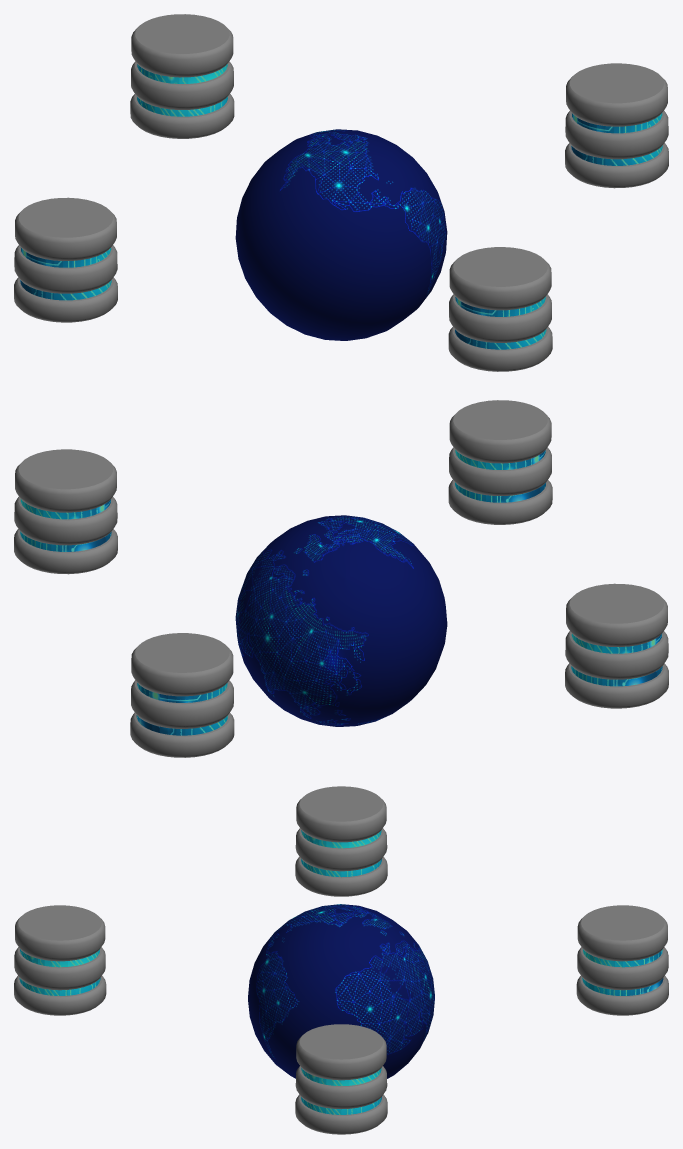
Rendered from escena1.gltf.
3 renders of one model, top to bottom at view 1: azimuth 30°, elevation 25°; view 2: azimuth 150°, elevation 25°; view 3: azimuth 270°, elevation 25°, orthographic. The views are drawn at different scales.
Visible parts, largest first — view 1: Sphere, Cylinder.000, Cylinder.001, Cylinder.002, Cylinder.003; view 2: Sphere, Cylinder.001, Cylinder.000, Cylinder.002, Cylinder.003; view 3: Sphere, Cylinder.002, Cylinder.003, Cylinder.000, Cylinder.001.
Part boxes in pixels (<box>): Sphere: <box>235,129,447,340</box>; Cylinder.000: <box>448,247,552,371</box>; Cylinder.001: <box>130,14,234,138</box>; Cylinder.002: <box>565,63,668,188</box>; Cylinder.003: <box>14,197,117,322</box>; Sphere: <box>235,515,447,726</box>; Cylinder.001: <box>130,633,234,757</box>; Cylinder.000: <box>448,400,552,524</box>; Cylinder.002: <box>14,449,117,574</box>; Cylinder.003: <box>565,583,668,708</box>; Sphere: <box>248,904,434,1078</box>; Cylinder.002: <box>295,1024,387,1134</box>; Cylinder.003: <box>295,786,387,896</box>; Cylinder.000: <box>14,905,106,1015</box>; Cylinder.001: <box>576,905,668,1015</box>.
Bounding box in the file's own units: 13.97 × 3.99 × 13.97.
Materials: 3 (3 with a texture image).
